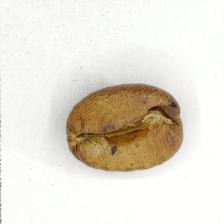NG: (78, 95, 174, 158)
